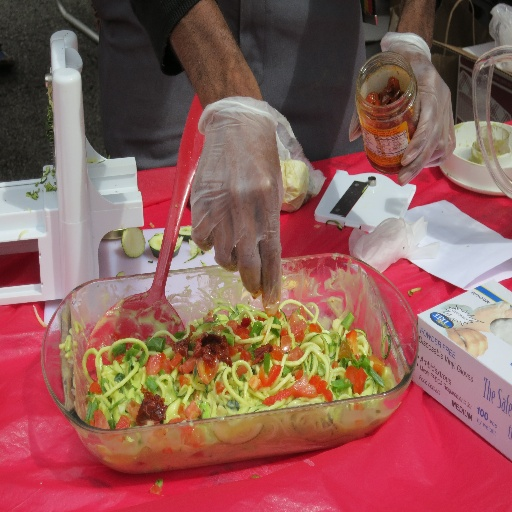hand: (348, 43, 456, 186), (172, 0, 273, 124), (446, 326, 488, 357)
